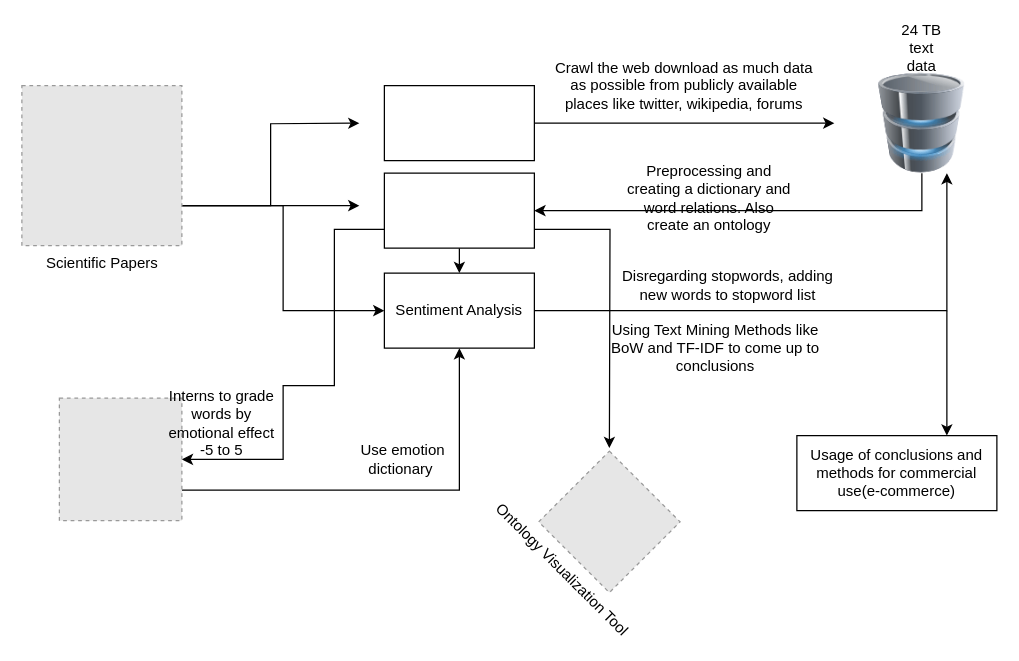
This 1019x661 diagram has some shape labels left out. Grey dashed boxes stand in for pictures. Each missing label, with the centre of its shape:
"Crawler" belongs at point (458, 122).
"Ontology" belongs at point (458, 210).
